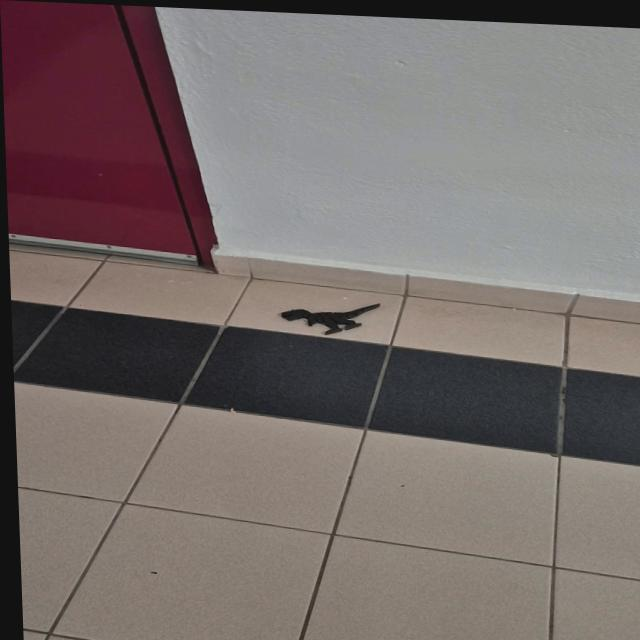dino: (281, 298, 382, 338)
